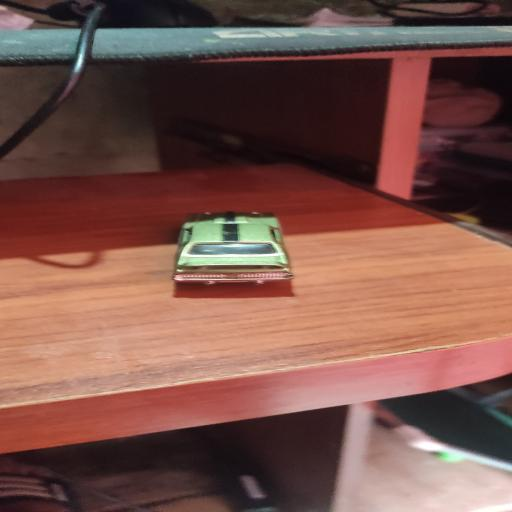Carrito: (172, 211, 294, 284)
